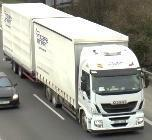car: (0, 72, 19, 108)
truck: (5, 5, 144, 132)
